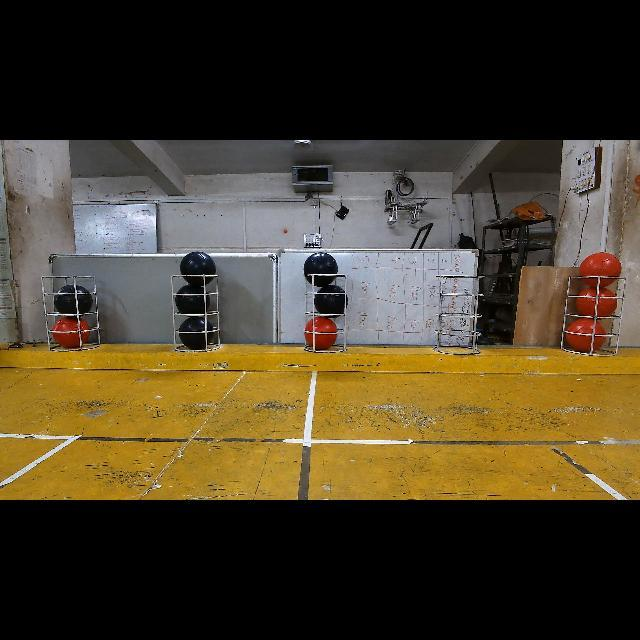P: (180, 251, 216, 287), (304, 252, 338, 288), (180, 316, 215, 350), (54, 285, 92, 316), (315, 285, 349, 318), (175, 285, 210, 315)
R: (579, 252, 621, 288), (568, 319, 608, 352), (575, 287, 617, 318), (52, 316, 90, 349), (305, 316, 338, 350)
S: (558, 272, 630, 361), (38, 270, 104, 356), (164, 268, 226, 356), (429, 272, 488, 360), (300, 269, 350, 359)
